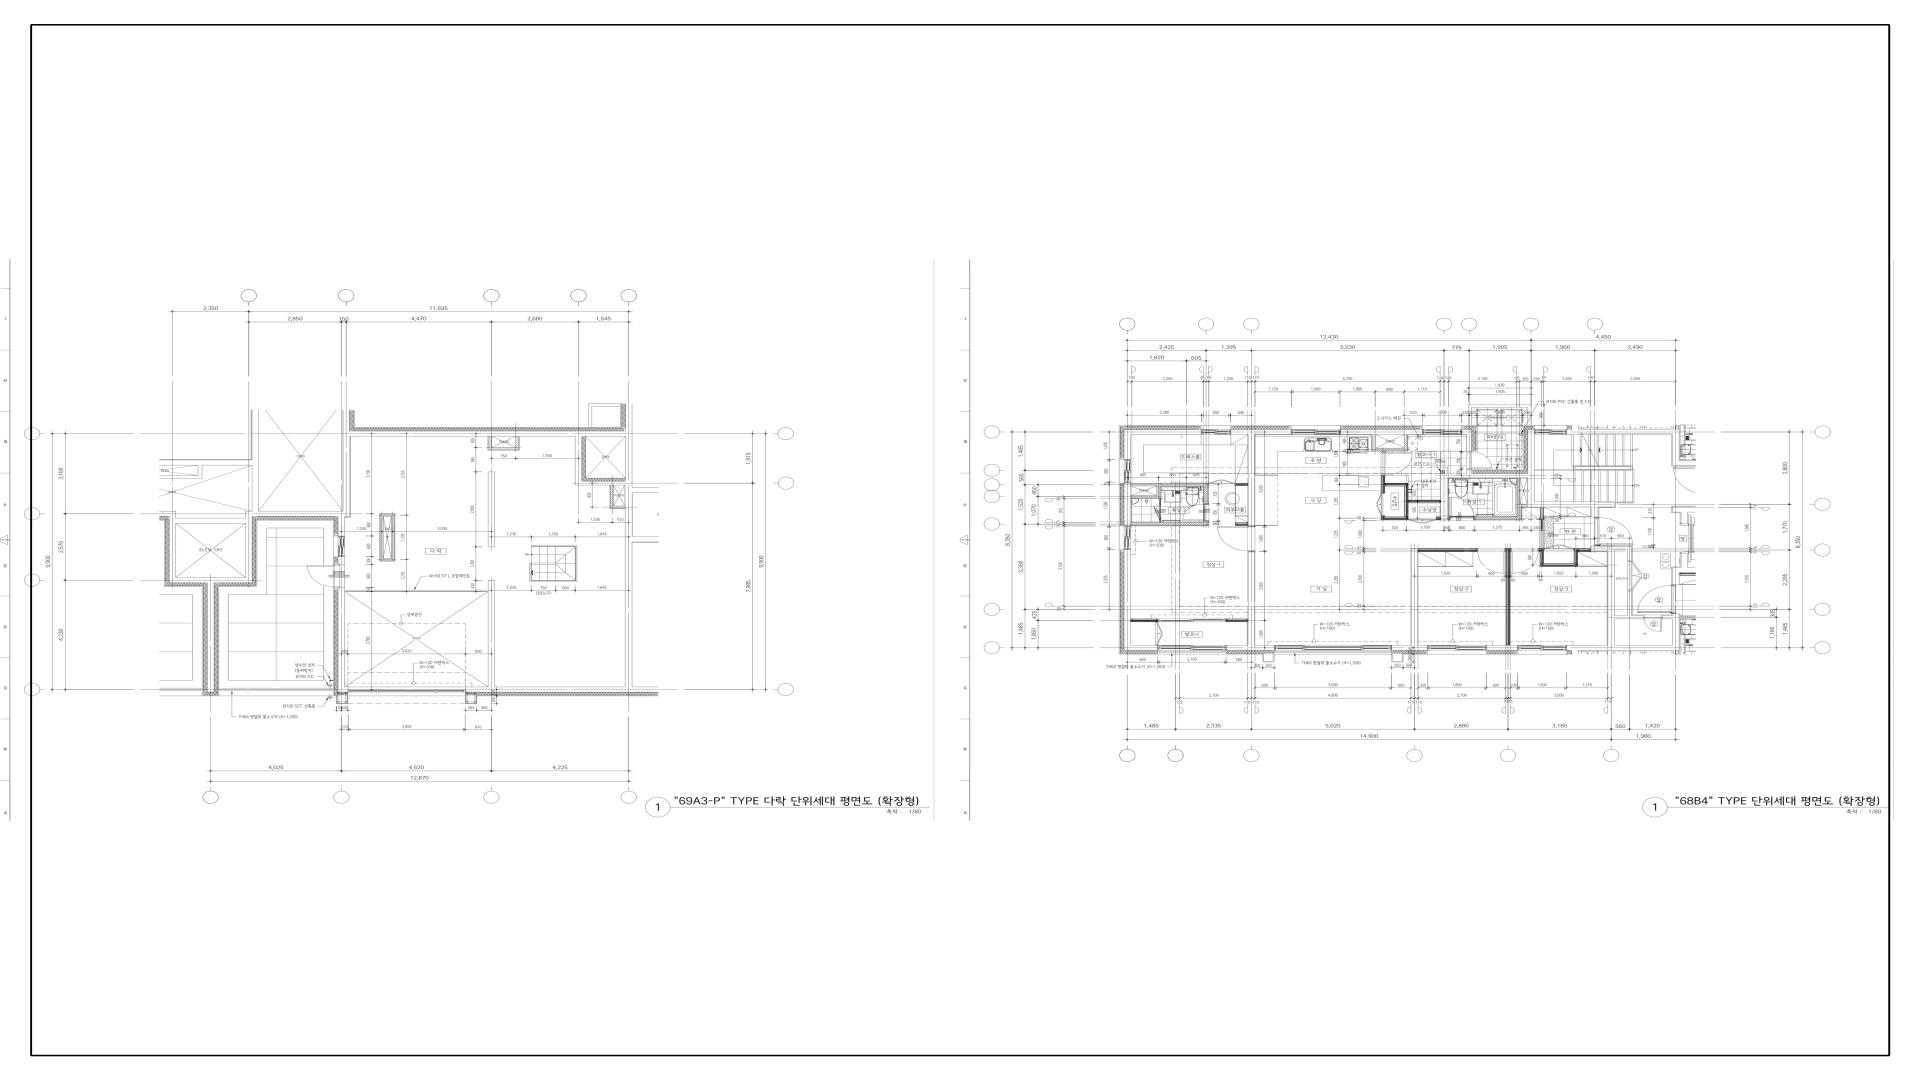door: (1594, 517, 1633, 546), (1217, 526, 1255, 553), (307, 564, 344, 588), (1381, 452, 1414, 476), (1477, 549, 1506, 574), (1511, 549, 1539, 574), (1449, 500, 1472, 521), (1466, 451, 1491, 469), (1183, 504, 1209, 521), (1155, 622, 1163, 645), (1539, 520, 1544, 549)
wall: (575, 404, 632, 485), (625, 485, 658, 537), (349, 431, 625, 436), (625, 537, 633, 692), (219, 688, 334, 696), (207, 583, 215, 692), (465, 687, 625, 692), (1124, 550, 1131, 650), (160, 460, 202, 479), (1411, 549, 1419, 645), (1607, 551, 1615, 645), (1247, 553, 1255, 645), (1247, 435, 1255, 526), (343, 410, 349, 517), (488, 580, 495, 687), (252, 410, 258, 512), (338, 588, 344, 687), (1567, 430, 1671, 435), (1528, 430, 1535, 506), (488, 471, 495, 547), (252, 512, 344, 517), (245, 512, 252, 583), (1340, 430, 1423, 435), (169, 512, 175, 578), (1124, 430, 1201, 435), (169, 578, 245, 583), (1506, 549, 1510, 645), (175, 518, 245, 524), (1124, 483, 1131, 526), (1441, 473, 1528, 477), (611, 485, 625, 509), (1230, 430, 1291, 435), (1535, 502, 1615, 506), (1130, 522, 1208, 526), (1130, 483, 1208, 487), (575, 436, 582, 481), (1441, 477, 1448, 521), (202, 460, 252, 465), (1567, 645, 1615, 650), (1226, 645, 1274, 650), (1671, 430, 1679, 462), (1418, 549, 1477, 553), (336, 687, 348, 704), (1124, 435, 1131, 460), (1391, 645, 1428, 650), (1472, 517, 1518, 521), (1518, 477, 1522, 521), (1468, 405, 1531, 407), (1486, 645, 1518, 650), (380, 517, 384, 559), (1672, 506, 1696, 513), (1131, 645, 1158, 650), (633, 537, 658, 542), (338, 517, 344, 537), (1592, 546, 1615, 551), (1130, 495, 1160, 498), (1466, 430, 1472, 451), (392, 517, 394, 559), (1130, 618, 1158, 622), (1371, 448, 1408, 451), (1406, 483, 1408, 518), (1672, 462, 1696, 465), (588, 404, 592, 427), (575, 547, 578, 582), (1408, 500, 1441, 502), (1543, 564, 1576, 567), (1226, 618, 1247, 622), (592, 404, 621, 406), (1468, 407, 1472, 426), (1592, 506, 1598, 517), (492, 447, 518, 450), (1204, 487, 1208, 504), (530, 580, 576, 582), (531, 546, 578, 547), (1385, 483, 1406, 485), (1371, 435, 1375, 448), (1404, 435, 1408, 448), (1540, 506, 1544, 520), (338, 556, 344, 564), (1528, 407, 1531, 426), (1236, 483, 1247, 487), (1236, 522, 1247, 526), (1615, 547, 1631, 550), (380, 514, 394, 517), (1156, 487, 1160, 496), (1382, 518, 1408, 520), (489, 436, 492, 450), (1255, 525, 1278, 526), (1255, 475, 1278, 476), (516, 436, 518, 447), (1383, 475, 1385, 493), (1542, 549, 1543, 567), (530, 563, 531, 580), (1520, 504, 1528, 506), (1576, 550, 1592, 551), (1436, 517, 1441, 521), (1576, 551, 1577, 567), (1466, 469, 1472, 473), (1462, 430, 1466, 435), (380, 559, 394, 560), (1171, 526, 1179, 527), (1159, 498, 1160, 506), (1381, 516, 1385, 518), (1381, 451, 1386, 452), (1204, 521, 1208, 522), (1448, 517, 1449, 520), (1539, 550, 1542, 551), (1204, 504, 1208, 504), (345, 591, 487, 591)
window: (348, 687, 465, 696), (1274, 645, 1391, 650), (1158, 645, 1226, 650), (1428, 645, 1486, 650), (1158, 618, 1226, 622), (1518, 645, 1567, 650), (1291, 430, 1340, 435), (1423, 430, 1462, 435), (1124, 526, 1131, 550), (1124, 460, 1131, 483), (1535, 430, 1567, 435), (1201, 430, 1232, 435), (338, 537, 344, 556)
